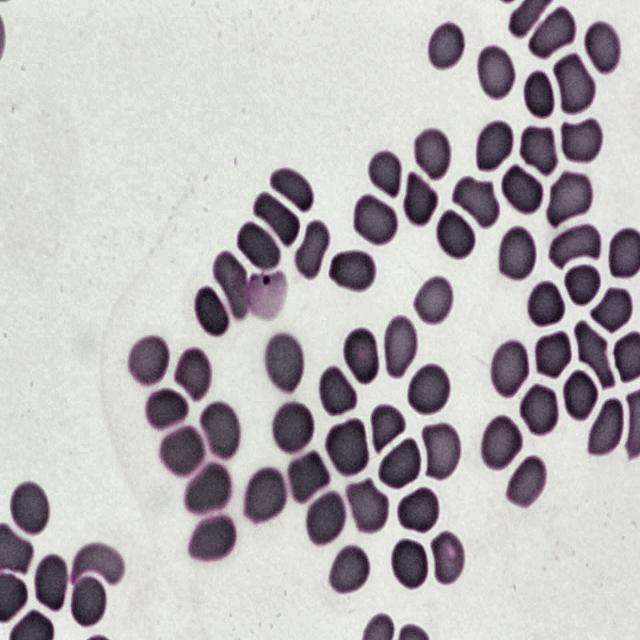red blood cell: (571, 316, 612, 391), (544, 169, 594, 230), (241, 464, 289, 527), (551, 51, 596, 118), (156, 422, 207, 481), (183, 459, 233, 519), (342, 475, 390, 537), (197, 399, 241, 465), (324, 415, 369, 479), (406, 358, 454, 418), (213, 250, 253, 322), (184, 511, 236, 566), (352, 192, 401, 249), (418, 420, 462, 483), (479, 412, 524, 473), (252, 193, 301, 249), (234, 218, 282, 275), (380, 312, 419, 382), (304, 488, 347, 550), (488, 336, 529, 401), (264, 334, 305, 399), (292, 216, 332, 282), (503, 453, 548, 510), (286, 448, 330, 506), (500, 162, 546, 217), (271, 399, 315, 456), (588, 398, 628, 460), (549, 224, 604, 269), (70, 544, 126, 588), (452, 177, 500, 228), (528, 6, 576, 57), (401, 166, 440, 228), (496, 224, 536, 284), (32, 551, 70, 614), (342, 327, 381, 388), (9, 480, 50, 538), (127, 333, 170, 388), (435, 207, 478, 262), (519, 382, 561, 438), (425, 18, 467, 74), (557, 116, 604, 166), (173, 346, 213, 404), (476, 44, 516, 102), (326, 250, 376, 296), (587, 282, 633, 332), (582, 20, 622, 77), (192, 281, 232, 338), (69, 570, 107, 628), (378, 441, 422, 491), (328, 545, 370, 597), (316, 364, 356, 418), (271, 162, 316, 210), (414, 124, 451, 182), (247, 269, 288, 321), (428, 530, 466, 586), (518, 122, 556, 178), (562, 366, 600, 422), (534, 326, 574, 379), (144, 387, 189, 434), (390, 537, 428, 592), (364, 148, 403, 201), (396, 487, 438, 536), (526, 279, 566, 330), (412, 275, 453, 324), (562, 260, 601, 311), (521, 68, 557, 121), (476, 122, 514, 171), (370, 404, 406, 454)
